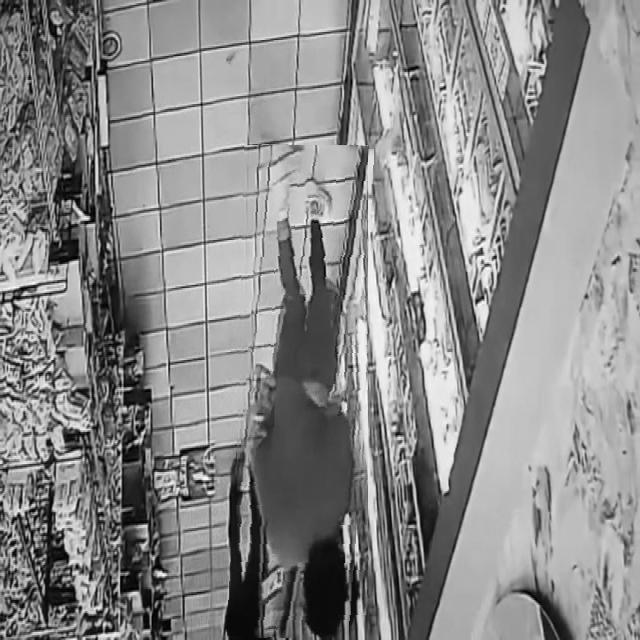Normal: (233, 145, 368, 640)
